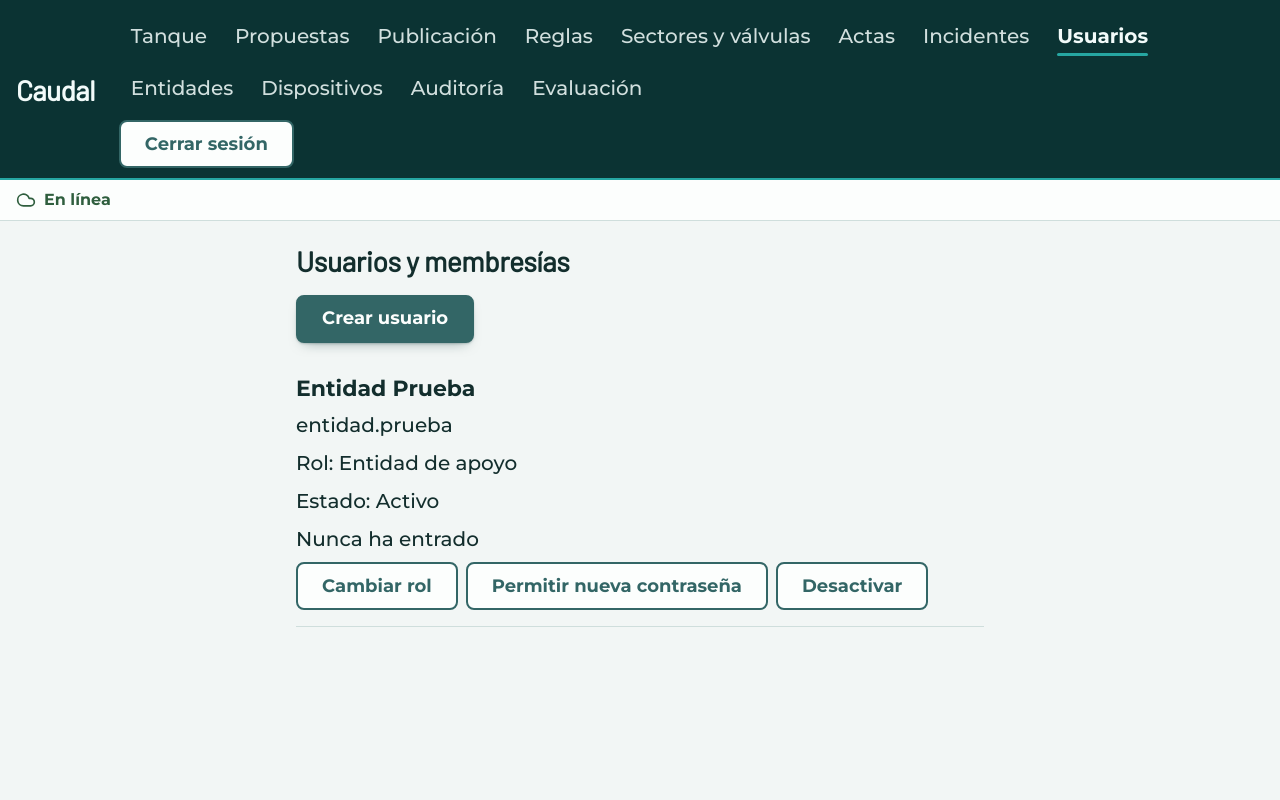
Scenario: user administration (F089) › says the old role ended when the new one cannot be granted
Click the button "Cambiar rol": {"x": 377, "y": 586} top-left (296, 562), bottom-right (458, 610)
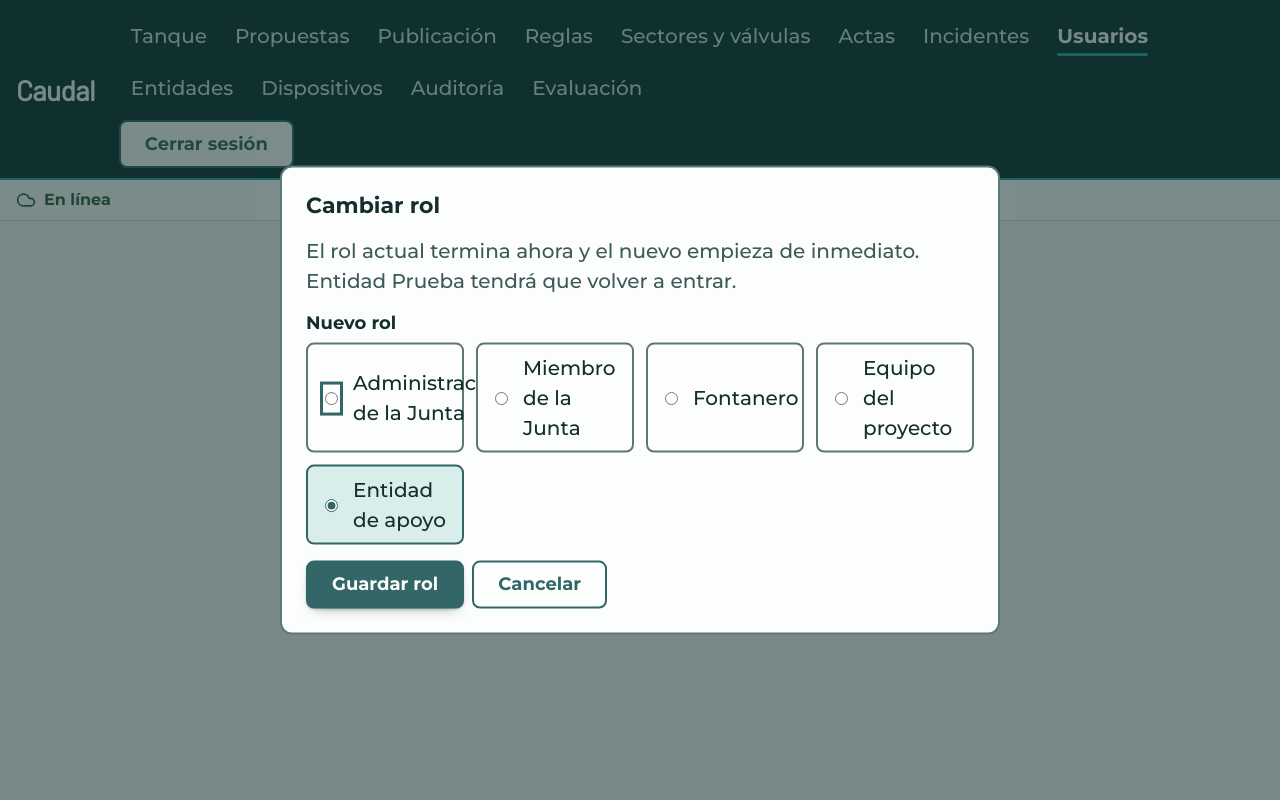
Click the radio button labelled "Fontanero": {"x": 672, "y": 399} top-left (665, 387), bottom-right (678, 411)
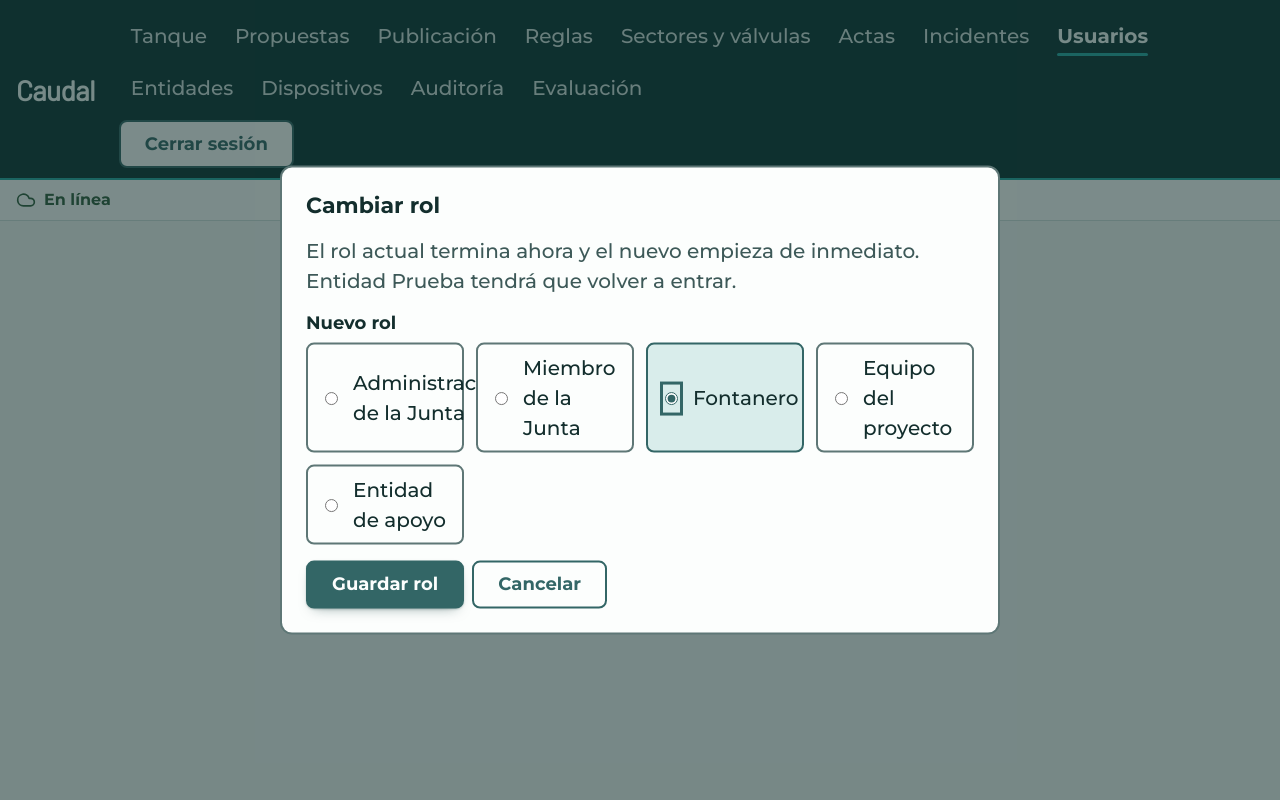
Click the button "Guardar rol": {"x": 385, "y": 584} top-left (306, 560), bottom-right (464, 608)
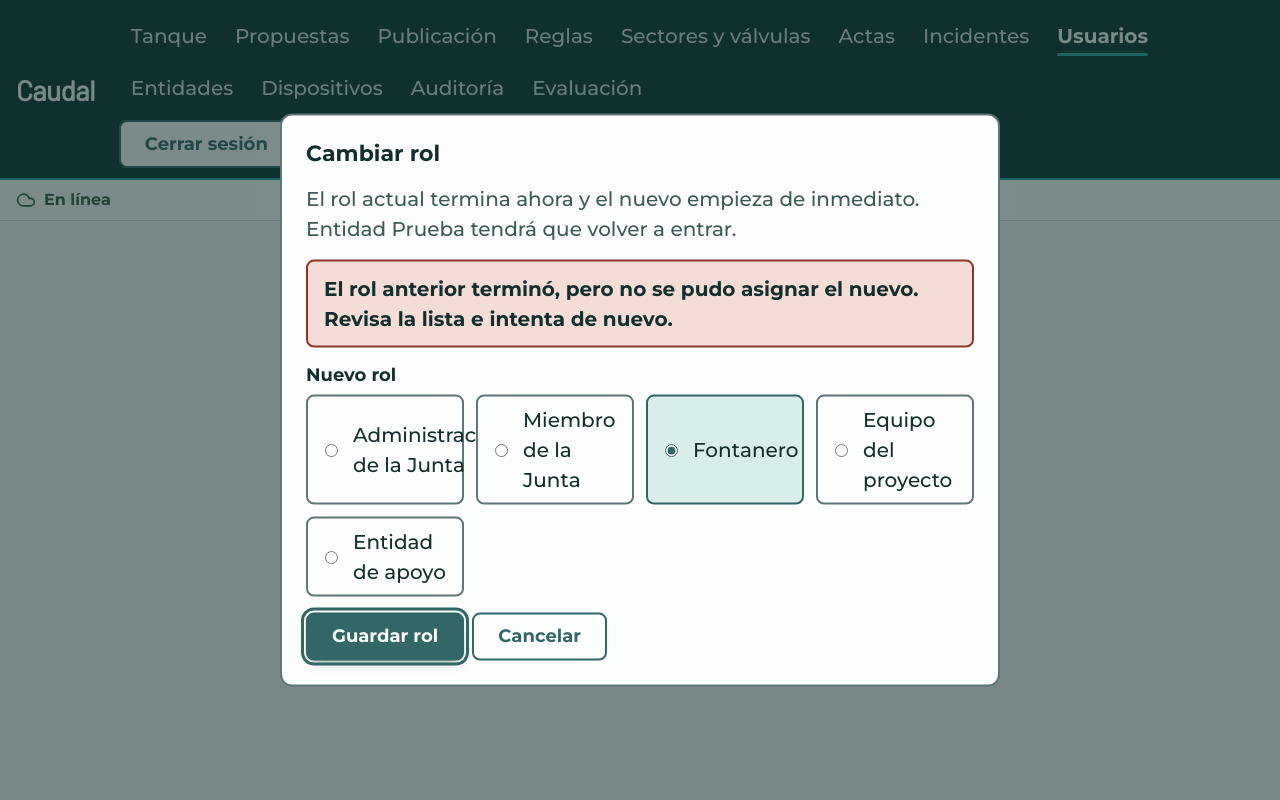
Expected: the text "El rol anterior terminó, pero no se pudo asignar el nuevo. Revisa la lista e intenta de nuevo." is shown, top-left (324, 276), bottom-right (919, 330)
